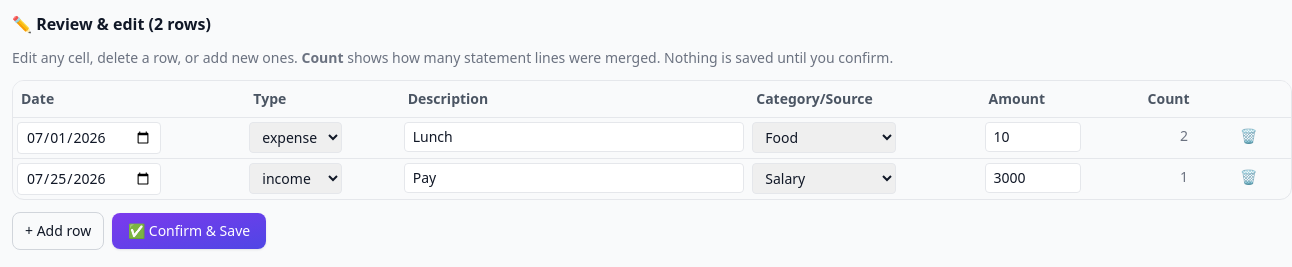
Test: TransactionPreview › saves with the expected payload (UI ids stripped) and reports the result
Click the button "✅ Confirm & Save": point(189, 231) [112, 213, 266, 249]
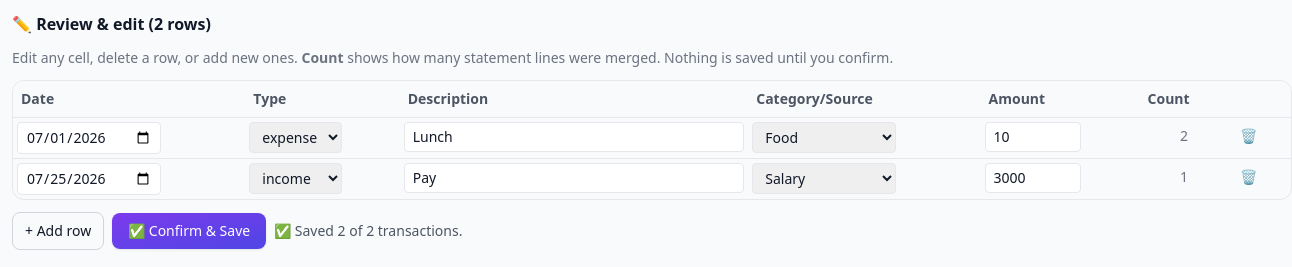
Result: the text "✅ Saved 2 of 2 transactions." is shown at [274, 221, 462, 241]
